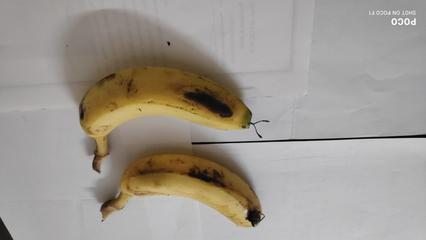banana: (73, 61, 281, 147), (115, 151, 276, 231)
